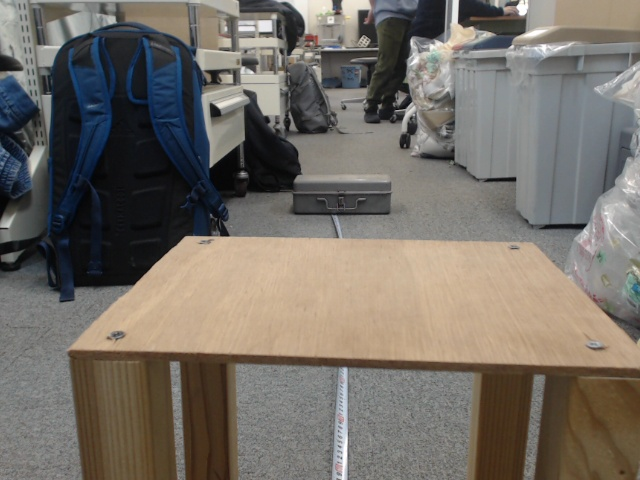desk: (293, 74, 525, 324)
